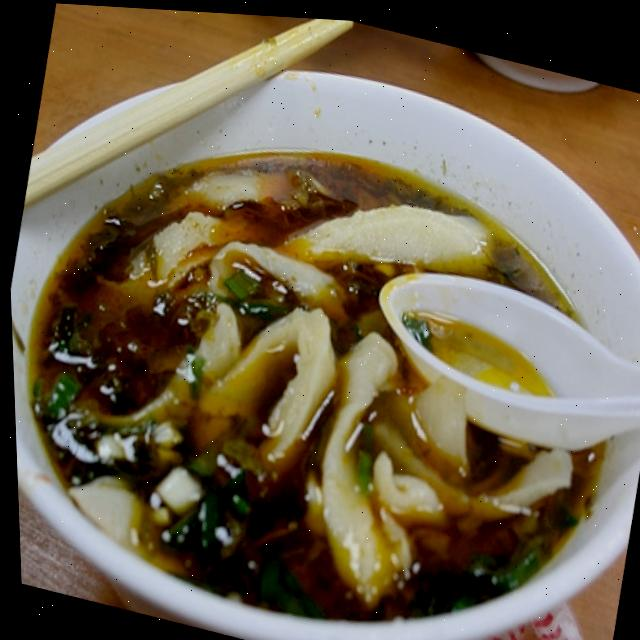面条主食: (1, 33, 640, 640)
